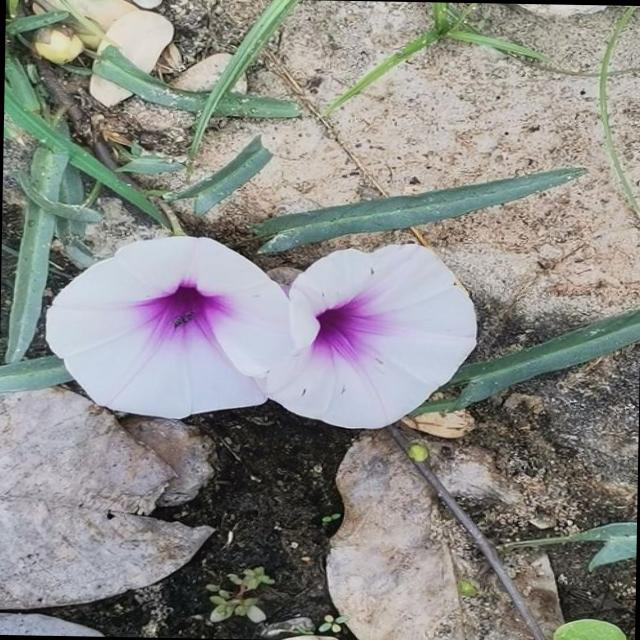ipomoea: (40, 231, 298, 424), (256, 238, 482, 434)
